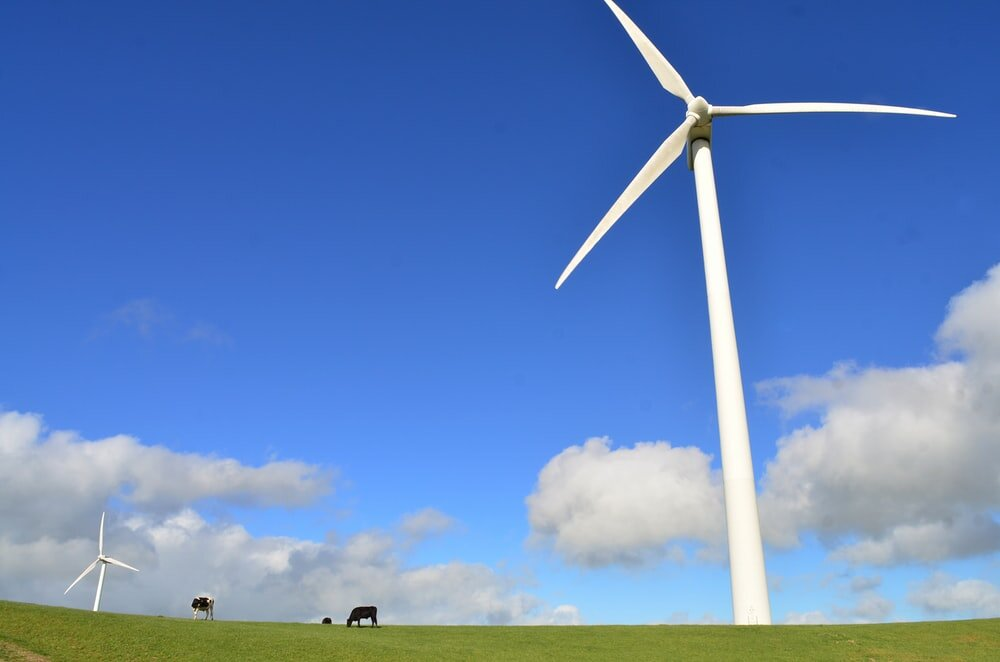working: (537, 3, 961, 282)
